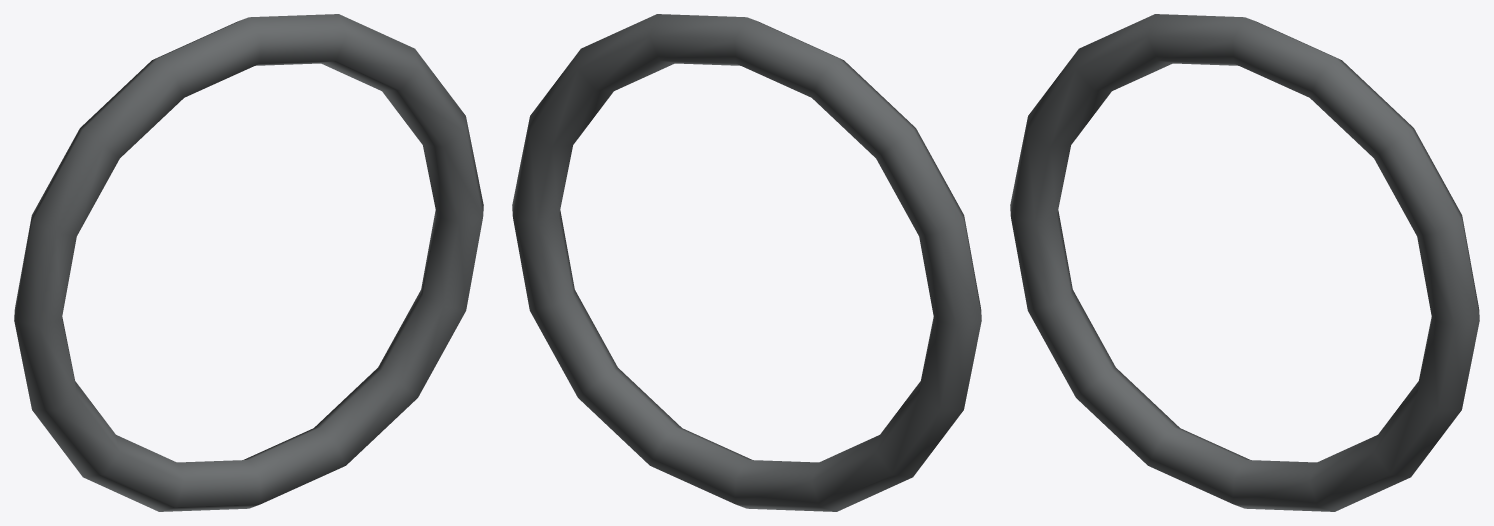
The model's file is Chain_01.fbx.
3 views of the same model, side by side, from view 1: azimuth 30°, elevation 25°; view 2: azimuth 150°, elevation 25°; view 3: azimuth 330°, elevation 25° (orthographic).
Parts seen in each view (by area): view 1: Chain_01; view 2: Chain_01; view 3: Chain_01.
Boxes of the visible parts, x1=… form: Chain_01: x1=14, y1=14, x2=483, y2=511; Chain_01: x1=512, y1=14, x2=981, y2=511; Chain_01: x1=1010, y1=14, x2=1479, y2=511.
Bounding box in the file's own units: 2.62 × 2.62 × 0.2336.
